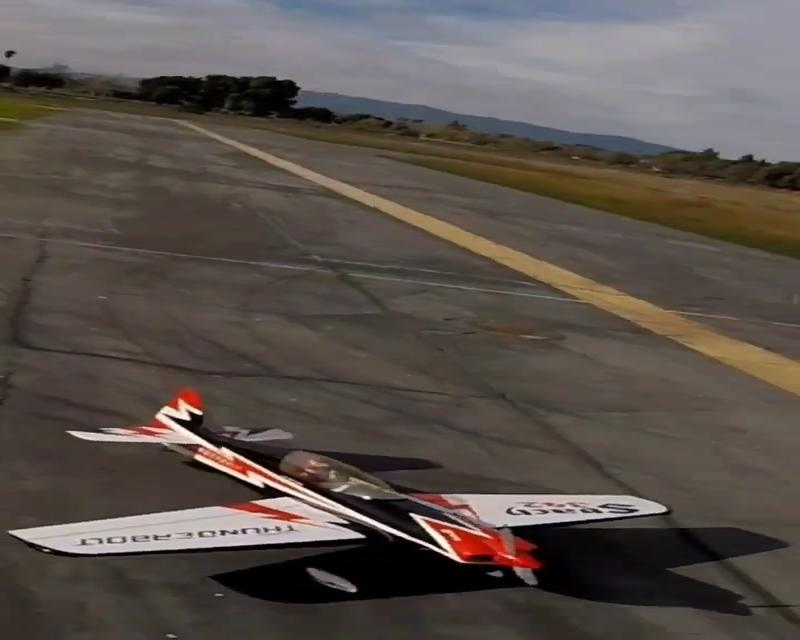UAV: (5, 386, 674, 594)
